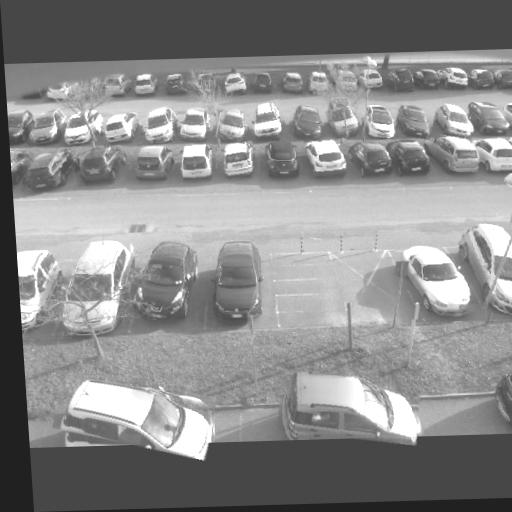busy: (51, 376, 215, 456), (275, 370, 422, 445), (122, 236, 204, 321), (395, 241, 479, 320), (456, 217, 512, 316), (202, 239, 266, 321), (59, 242, 132, 300), (15, 150, 80, 194), (17, 251, 59, 314), (73, 147, 126, 187), (304, 136, 352, 179), (430, 138, 483, 174), (126, 145, 174, 183), (347, 142, 396, 179), (135, 105, 180, 144), (430, 102, 476, 139), (171, 145, 217, 182), (244, 101, 287, 140), (390, 140, 434, 177), (22, 110, 67, 146), (261, 142, 303, 180), (216, 142, 259, 179), (392, 105, 436, 140), (97, 114, 143, 147), (286, 105, 327, 142), (468, 104, 512, 137), (360, 106, 400, 141), (476, 137, 512, 175), (211, 109, 250, 144), (58, 113, 98, 147), (175, 109, 213, 144), (492, 366, 512, 431), (325, 105, 362, 139), (384, 69, 416, 95), (8, 113, 35, 143), (276, 72, 308, 97), (217, 73, 249, 98), (10, 150, 31, 188), (128, 73, 160, 97), (159, 73, 191, 96), (330, 68, 359, 93), (440, 68, 471, 91), (99, 75, 130, 98), (358, 69, 387, 93), (192, 73, 222, 96), (467, 69, 498, 91), (305, 70, 331, 93), (412, 70, 440, 91), (248, 75, 276, 94), (41, 84, 74, 100), (494, 69, 512, 91), (505, 105, 512, 135)
